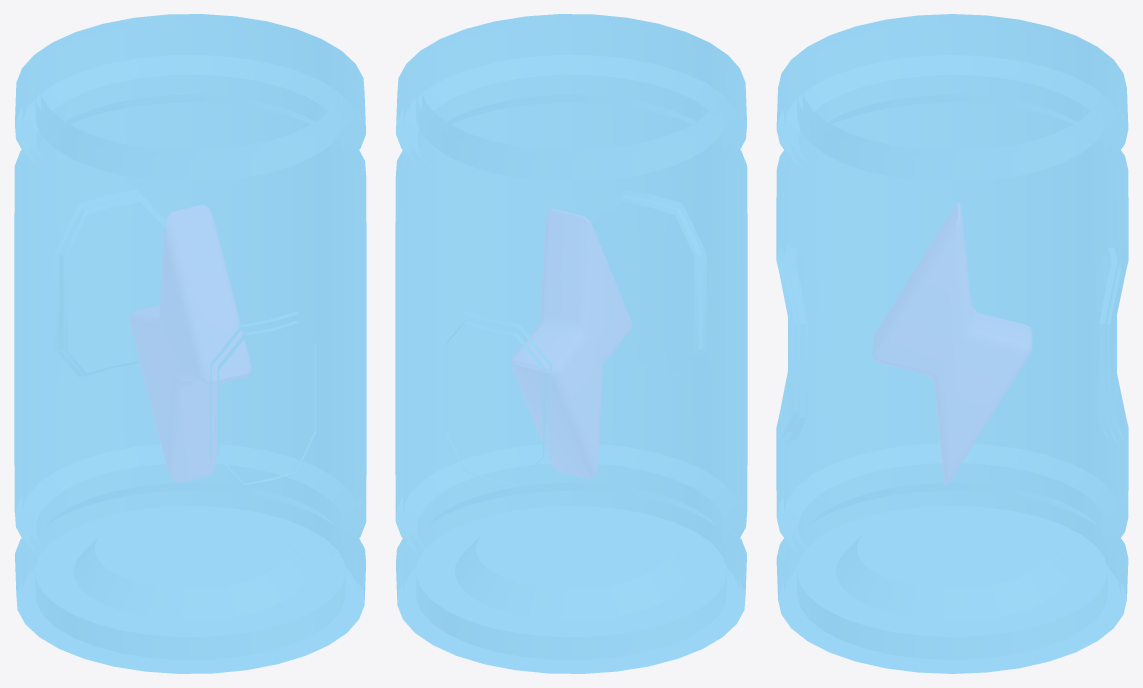
Rendered from battery.glb.
The picture shows the model from 3 angles, left to right: view 1: azimuth 30°, elevation 25°; view 2: azimuth 150°, elevation 25°; view 3: azimuth 270°, elevation 25°; orthographic projection.
Visible parts, largest first — view 1: 1.003, Cylinder.001; view 2: 1.003, Cylinder.001; view 3: 1.003, Cylinder.001.
Boxes of the visible parts, x1,y1,x2,y2 form: 1.003: (14, 14, 366, 673); Cylinder.001: (129, 204, 251, 483); 1.003: (395, 14, 747, 673); Cylinder.001: (510, 208, 632, 479); 1.003: (776, 14, 1128, 673); Cylinder.001: (872, 203, 1032, 484).
Bounding box in the file's own units: 0.102 × 0.1636 × 0.1017.
